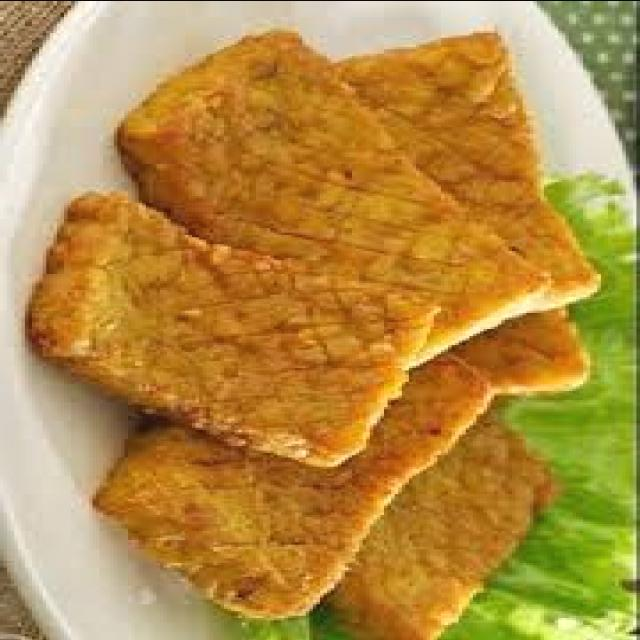tempe goreng: (114, 30, 548, 367), (128, 317, 587, 615), (28, 190, 402, 466)
